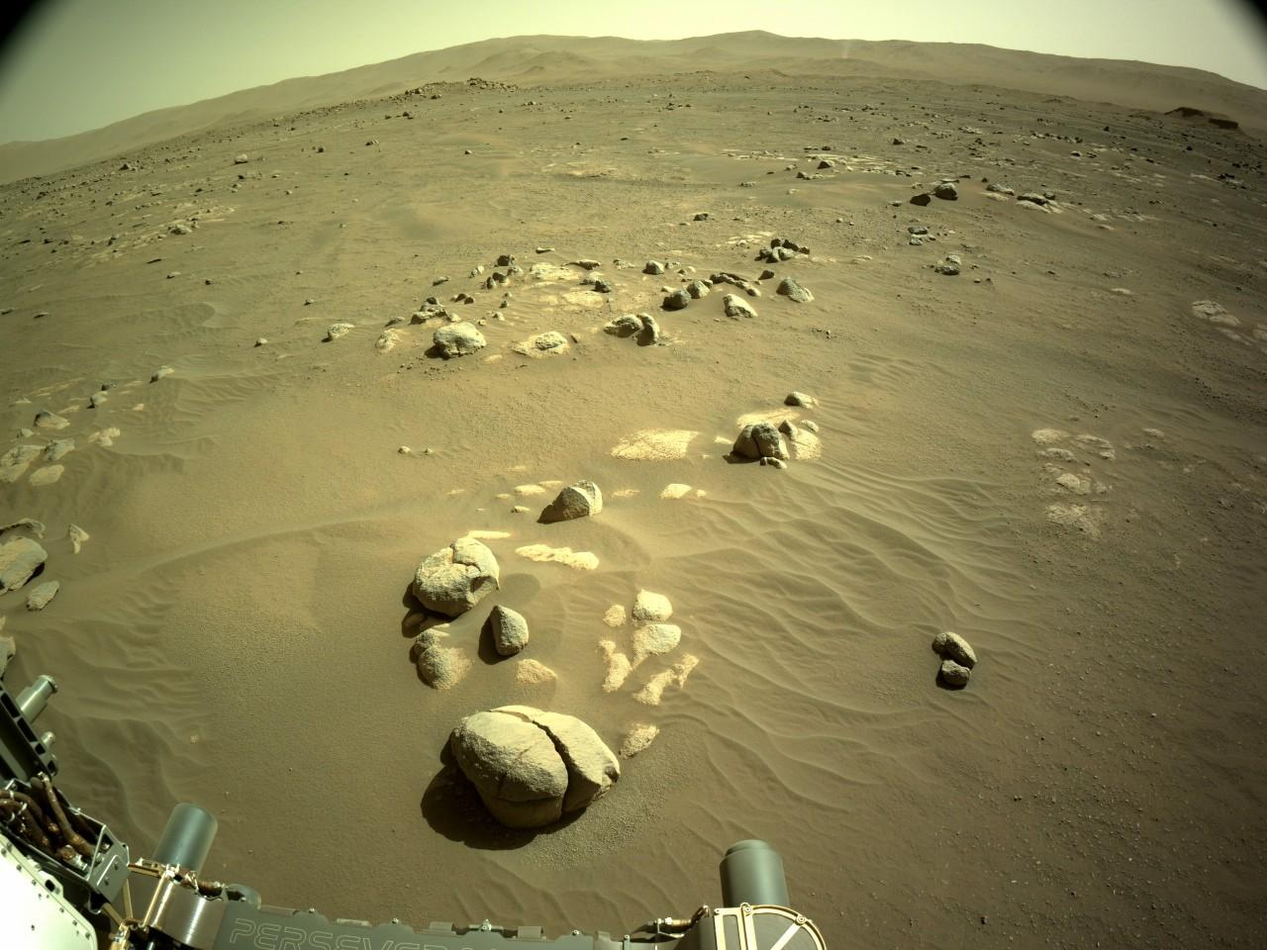bedrock: (693, 78, 1059, 127), (472, 271, 700, 322), (1042, 428, 1131, 542), (228, 101, 411, 142), (755, 145, 901, 182), (16, 173, 128, 200), (1236, 309, 1264, 352), (1234, 123, 1259, 170), (325, 319, 344, 345), (3, 191, 9, 217), (1236, 150, 1252, 159), (4, 237, 9, 265), (3, 494, 5, 512)
big_rock: (501, 814, 514, 824)
sand: (4, 209, 1048, 945), (705, 370, 764, 389), (423, 765, 448, 790), (6, 401, 7, 484), (1056, 404, 1063, 412), (1055, 415, 1060, 424), (398, 454, 400, 469), (24, 378, 33, 380), (1058, 376, 1061, 382)
soil: (835, 160, 1264, 947), (10, 89, 819, 286), (948, 69, 1233, 122), (9, 266, 73, 377), (1082, 130, 1235, 149), (519, 224, 533, 235), (10, 201, 15, 231), (4, 279, 5, 383), (315, 339, 321, 349), (76, 284, 81, 287), (323, 351, 327, 352)
